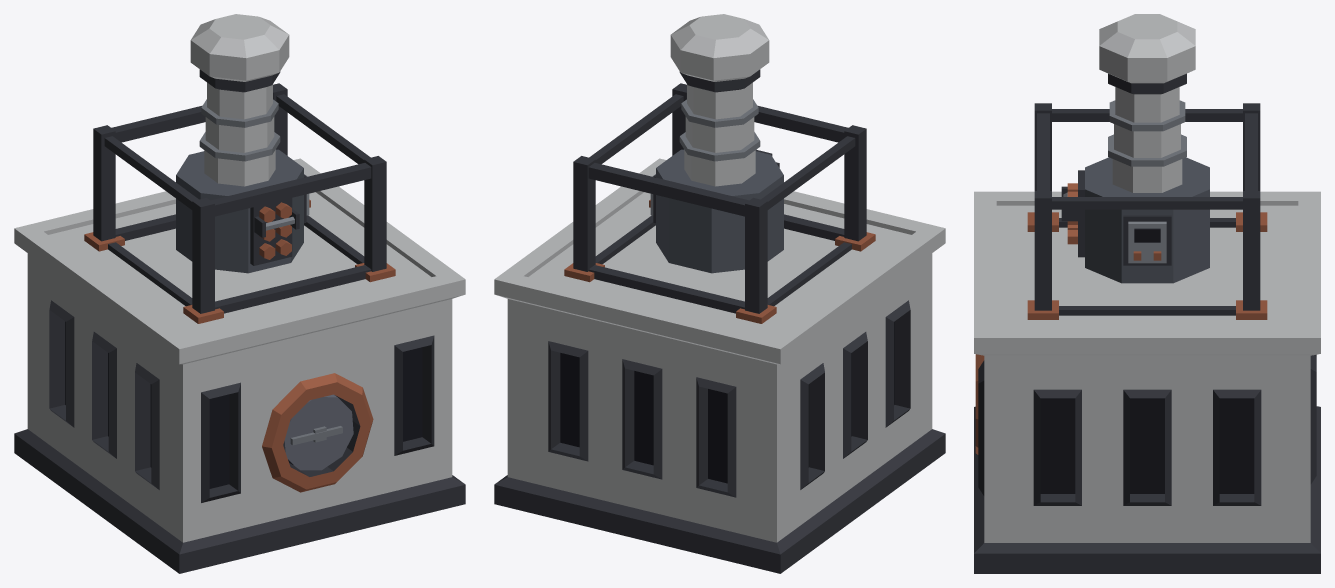
The model's file is ice-processing-plant-9c863f.glb.
The picture shows the model from 3 angles, left to right: view 1: azimuth 30°, elevation 25°; view 2: azimuth 150°, elevation 25°; view 3: azimuth 270°, elevation 25°; orthographic projection. The views are drawn at different scales.
Parts seen in each view (by area): view 1: plant-hull, door-leaf; view 2: plant-hull; view 3: plant-hull.
Part boxes in pixels (x1=…): plant-hull: x1=14, y1=14, x2=465, y2=573; door-leaf: x1=283, y1=394, x2=353, y2=470; plant-hull: x1=494, y1=14, x2=945, y2=573; plant-hull: x1=974, y1=14, x2=1320, y2=573.
Size of the model in its own units: 4 by 6.03 by 4.
